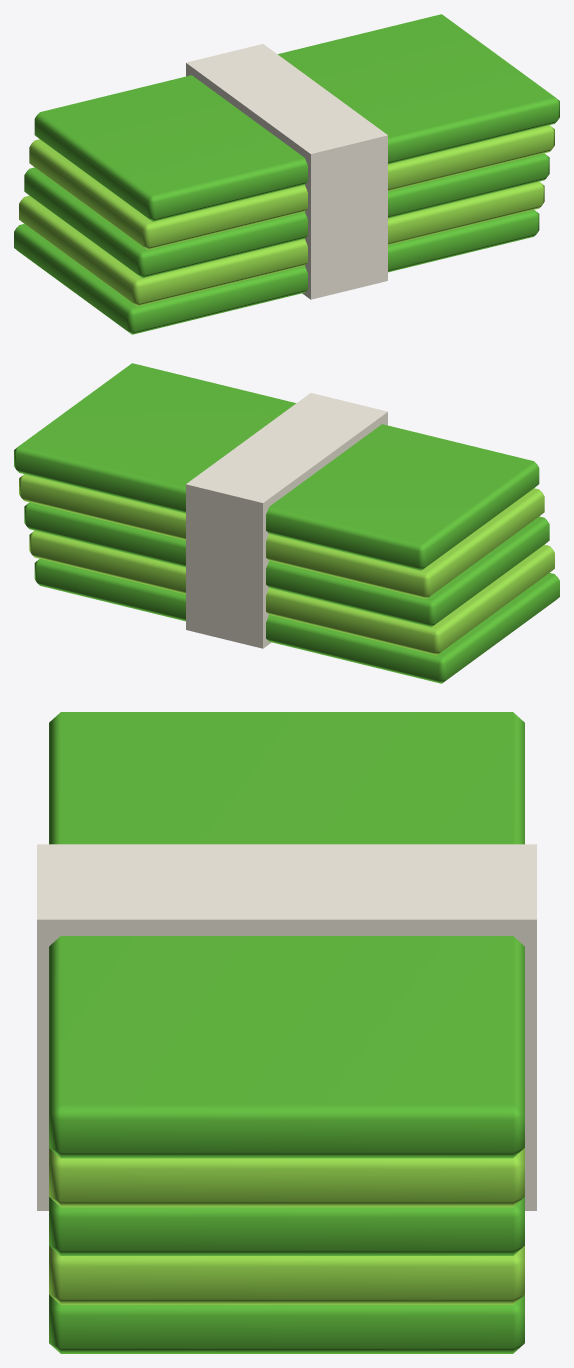
File: CashStack.fbx
3 renders of one model, top to bottom at view 1: azimuth 30°, elevation 25°; view 2: azimuth 150°, elevation 25°; view 3: azimuth 270°, elevation 25°, orthographic. The views are drawn at different scales.
Visible parts, largest first — view 1: CashStack; view 2: CashStack; view 3: CashStack.
Boxes of the visible parts, x1,y1,x2,y2 form: CashStack: [14, 14, 559, 334]; CashStack: [14, 363, 559, 683]; CashStack: [37, 712, 536, 1353].
Bounding box in the file's own units: 1.68 × 0.54 × 0.84.
1 material, 1 textured.
